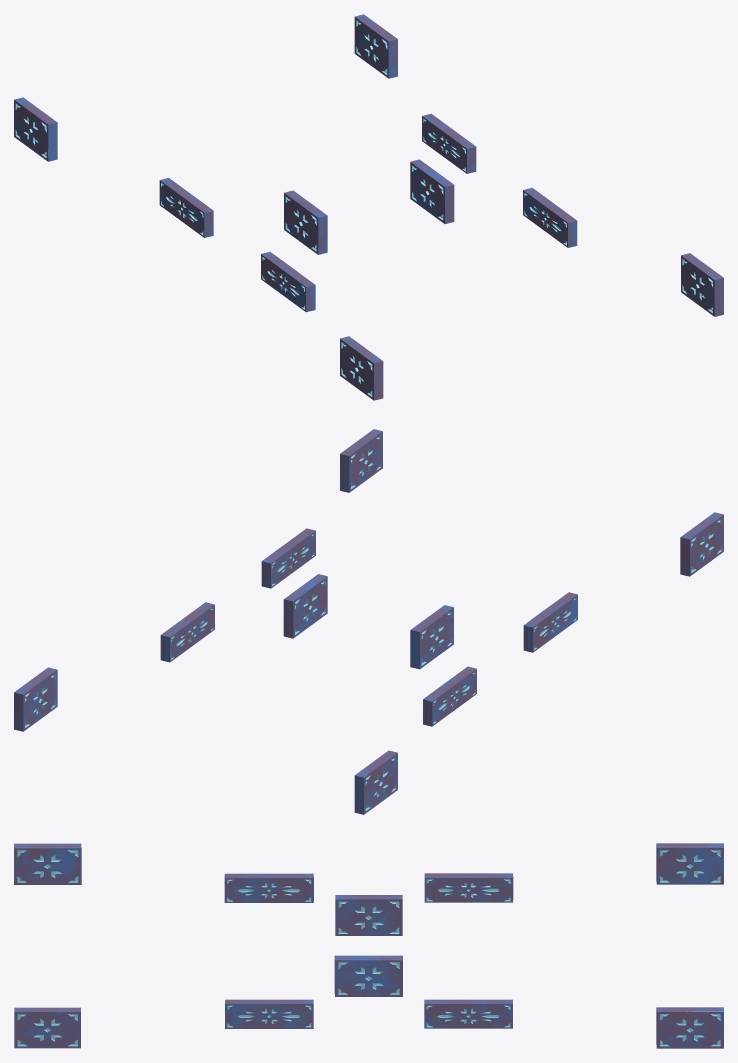
File: blue_gates.obj
3 renders of one model, top to bottom at view 1: azimuth 30°, elevation 25°; view 2: azimuth 150°, elevation 25°; view 3: azimuth 270°, elevation 25°, orthographic.
Visible parts, largest first — view 1: Plane.003; view 2: Plane.003; view 3: Plane.003.
Boxes of the visible parts, bbox=[...] form: Plane.003: bbox=[14, 14, 723, 400]; Plane.003: bbox=[14, 429, 723, 814]; Plane.003: bbox=[14, 843, 723, 1048].
Size of the model in its own units: 347 by 35.56 by 618.
